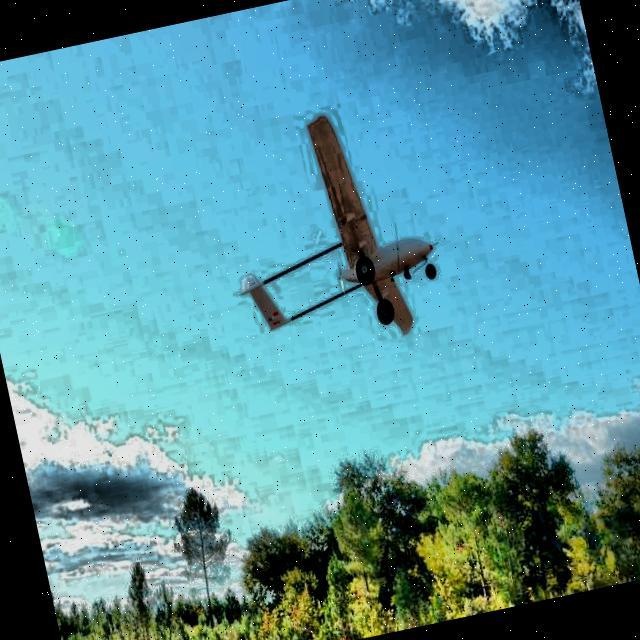iha: (189, 90, 462, 372)
